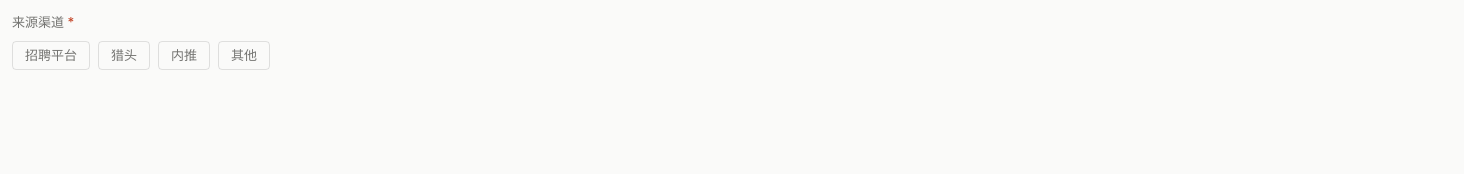
SourceChannelPicker › 点击其他加载标签并显示其他列表
The width and height of the screenshot is (1464, 174).
Click the button with class "channel-tab" showing "其他": (244, 55) [218,40,270,70]
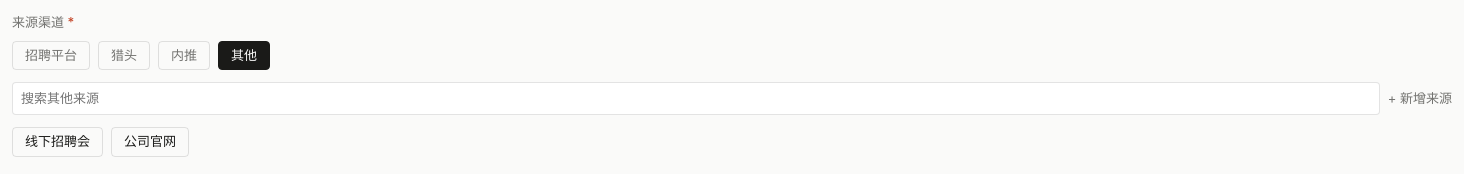
expect the text "线下招聘会" is shown: met, box [12,127,103,156]
expect the text "公司官网" is shown: met, box [111,127,189,156]
